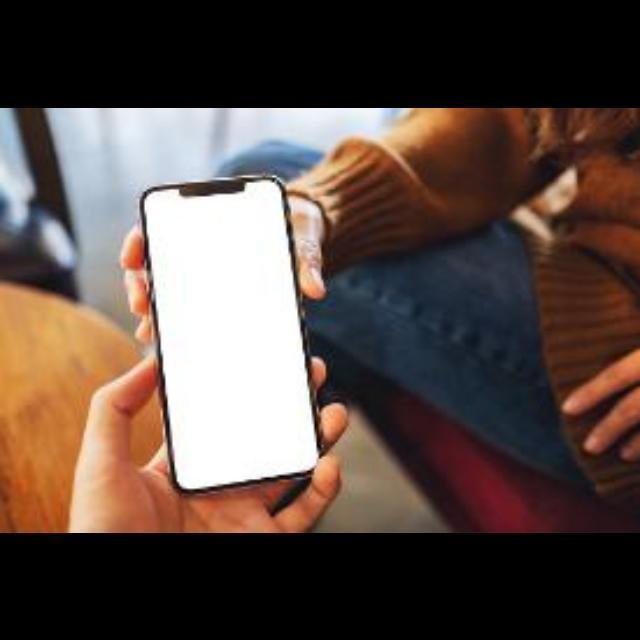PhoneUse: (140, 172, 326, 493)
